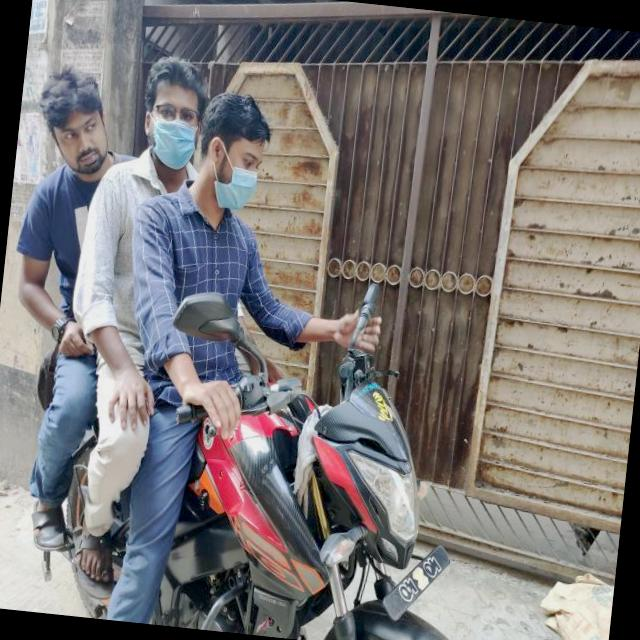motorcycle: (9, 320, 493, 640)
person: (49, 39, 218, 602), (116, 70, 294, 534), (0, 52, 138, 549)
